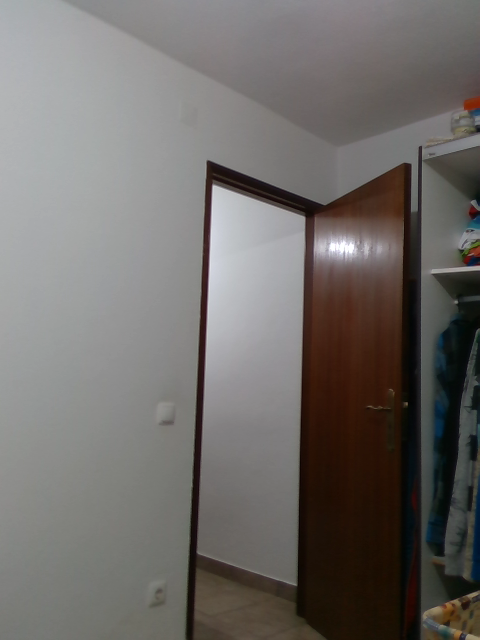open: (180, 163, 409, 639)
